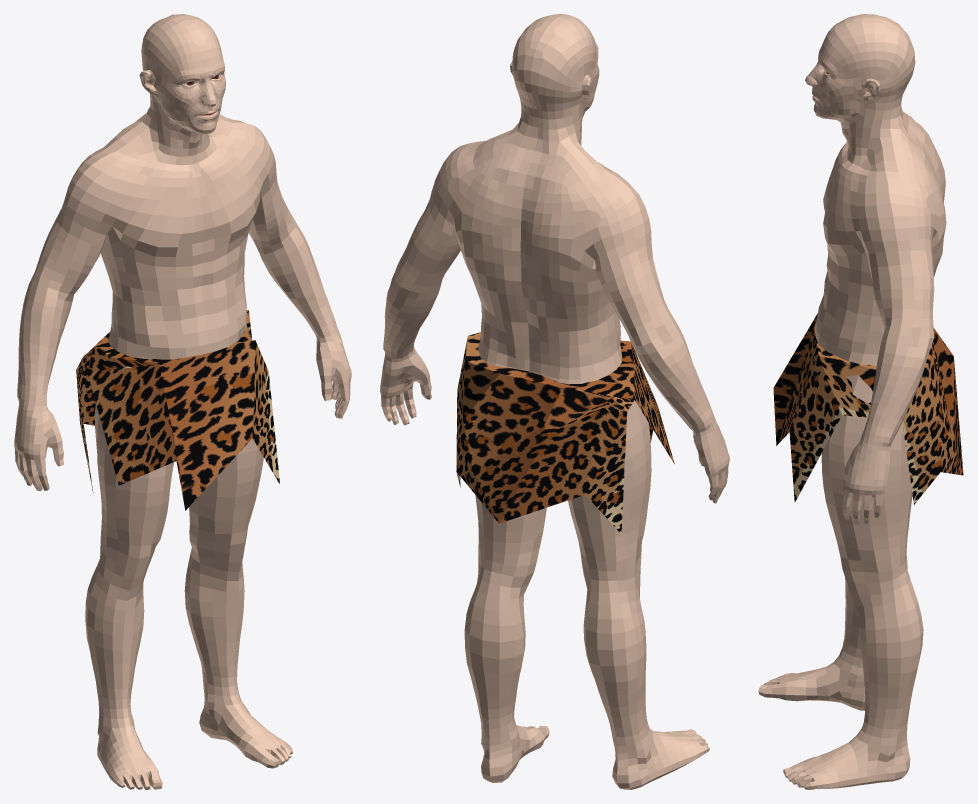
The model's file is man4.obj.
The picture shows the model from 3 angles, left to right: view 1: azimuth 30°, elevation 25°; view 2: azimuth 150°, elevation 25°; view 3: azimuth 270°, elevation 25°; orthographic projection. The views are drawn at different scales.
Visible parts, largest first — view 1: Realistic_White_Male_Low_Poly; view 2: Realistic_White_Male_Low_Poly; view 3: Realistic_White_Male_Low_Poly.
Part boxes in pixels (x1=…): Realistic_White_Male_Low_Poly: x1=14, y1=14, x2=351, y2=789; Realistic_White_Male_Low_Poly: x1=380, y1=14, x2=729, y2=789; Realistic_White_Male_Low_Poly: x1=758, y1=14, x2=963, y2=789.
Bounding box in the file's own units: 3.37 × 7.22 × 1.82.
